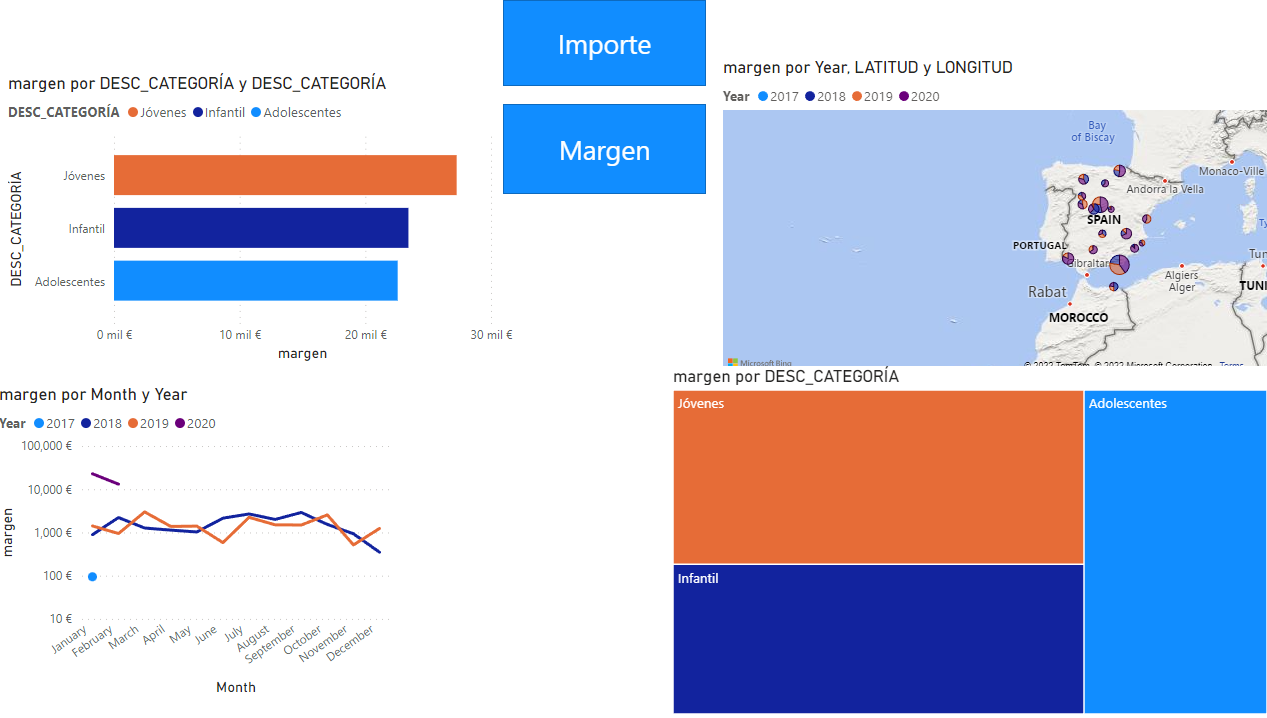

The page's visual inventory and layout, read from the dashboard file:
{"tool":"powerbi","page":{"name":"marcadores","canvas":[1280,720],"ordinal":0},"visuals":[{"type":"barChart","fields":{"Series":["Categoria  producto.DESC_CATEGORÍA"],"Category":["Categoria  producto.DESC_CATEGORÍA"],"Y":["Ventas.margen"]},"box":[8.9,73.3,515.6,292.2],"z":4000},{"type":"lineChart","fields":{"Category":["Calendario.Date.Variación.Date Hierarchy.Month"],"Series":["Calendario.Date.Variación.Date Hierarchy.Year"],"Y":["Ventas.margen"]},"box":[0,384.3,401.4,315.7],"z":5000},{"type":"map","fields":{"Y":["Comunidades autonomas.LATITUD"],"X":["Comunidades autonomas.LONGITUD"],"Series":["Calendario.Date.Variación.Date Hierarchy.Year"],"Size":["Ventas.margen"]},"box":[724.4,56.7,555.6,326.7],"z":6000},{"type":"treemap","fields":{"Values":["Ventas.margen"],"Group":["Categoria  producto.DESC_CATEGORÍA"]},"box":[673.6,365.8,604.7,352.9],"z":7000},{"type":"shape","box":[508.9,0,203.3,85.6],"z":8000},{"type":"shape","box":[508.9,104.4,203.3,90],"z":9000}]}

Visuals, with their boxes in screenshot pixels (x1, y1, x2, y2), scaled from the page's 1280x720 canvas onto the 1267x718 screenshot:
barChart - Categoria  producto.DESC_CATEGORÍA x Categoria  producto.DESC_CATEGORÍA: <region>9, 73, 519, 364</region>
lineChart - Calendario.Date.Variación.Date Hierarchy.Month x Calendario.Date.Variación.Date Hierarchy.Year: <region>0, 383, 397, 698</region>
map - Comunidades autonomas.LATITUD x Comunidades autonomas.LONGITUD: <region>717, 57, 1266, 382</region>
treemap - Ventas.margen x Categoria  producto.DESC_CATEGORÍA: <region>667, 365, 1265, 717</region>
shape: <region>504, 0, 705, 85</region>
shape: <region>504, 104, 705, 194</region>
